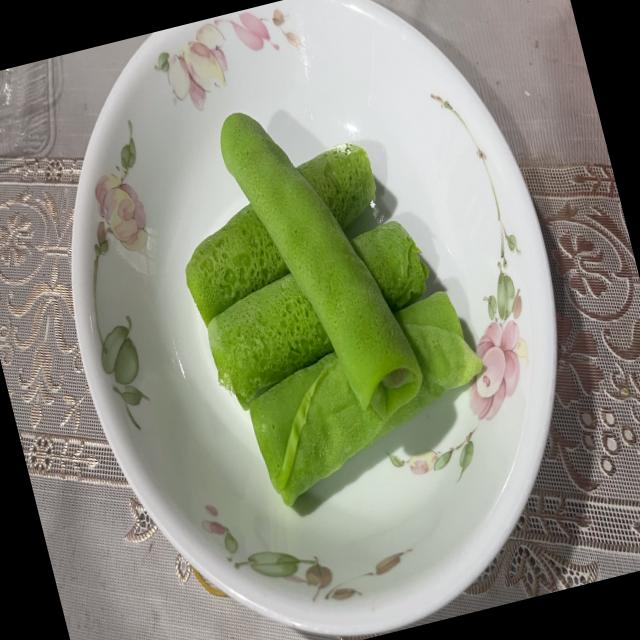Kuih-Ketayap: (220, 112, 422, 419), (250, 291, 482, 505), (207, 273, 332, 410), (185, 204, 289, 325), (350, 220, 428, 311), (297, 142, 375, 228)
